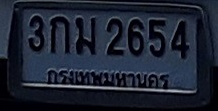num3: (27, 13, 46, 54)
txt01: (47, 14, 72, 55)
txt28: (73, 15, 97, 56)
